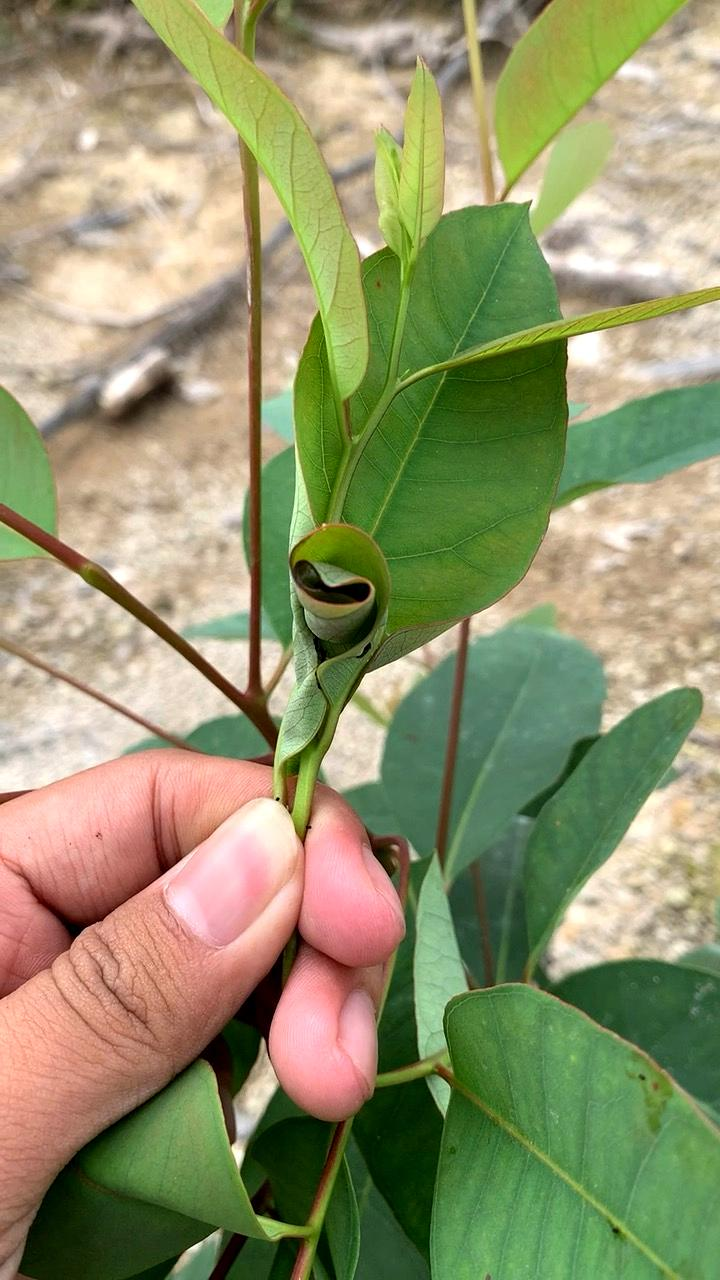Leaf Roller - Leaf: (209, 488, 473, 754)
